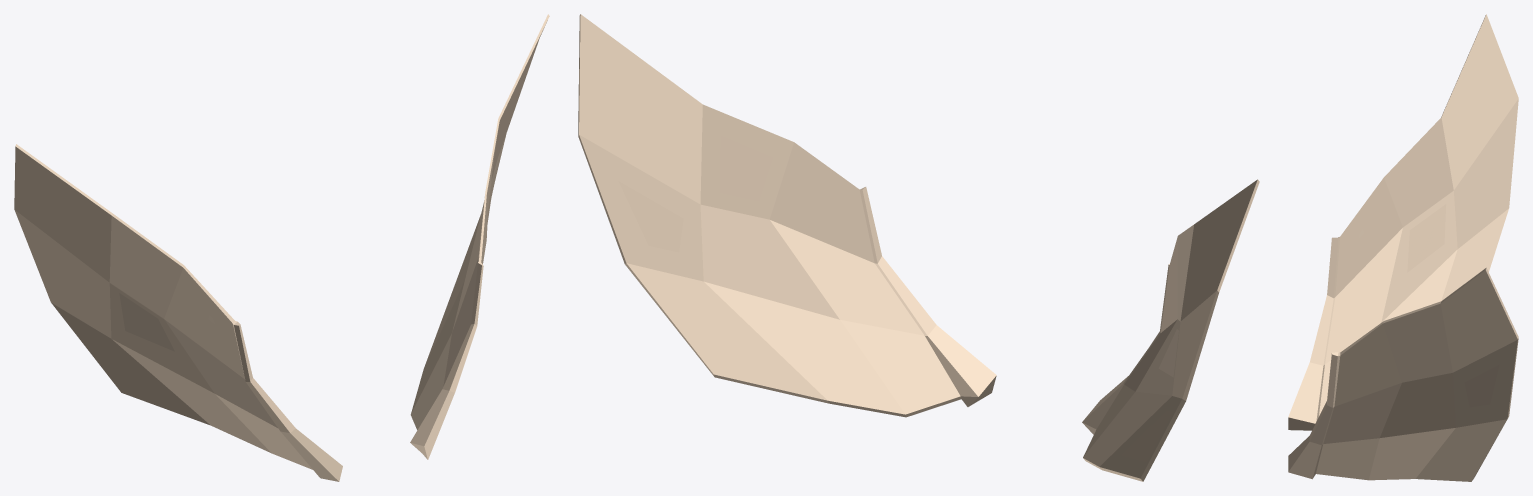
The model's file is Harish_wings_old.obj.
3 views of the same model, side by side, from view 1: azimuth 30°, elevation 25°; view 2: azimuth 150°, elevation 25°; view 3: azimuth 270°, elevation 25° (orthographic). The views are drawn at different scales.
Visible parts, largest first — view 1: Wings; view 2: Wings; view 3: Wings.
Part boxes in pixels (x1,y1,x2,y2): Wings: (14, 14, 549, 481); Wings: (578, 14, 1259, 481); Wings: (1288, 14, 1518, 481).
Size of the model in its own units: 236 by 136 by 90.17.
